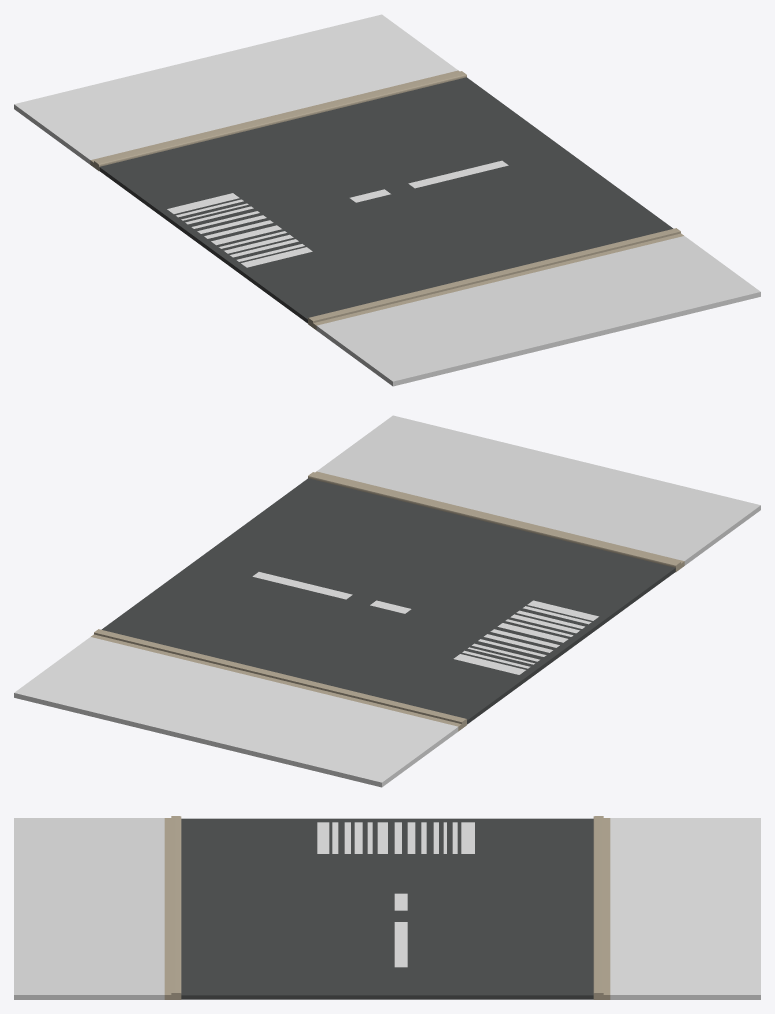
The model's file is SIDEWALK_PLUS_ROAD_COMBINED_RAW.fbx.
3 renders of one model, top to bottom at view 1: azimuth 30°, elevation 25°; view 2: azimuth 150°, elevation 25°; view 3: azimuth 270°, elevation 25°, orthographic.
Parts seen in each view (by area): view 1: sidwalk_and_road_combined; view 2: sidwalk_and_road_combined; view 3: sidwalk_and_road_combined.
Boxes of the visible parts, box(x1,y1,x2,y2) form: sidwalk_and_road_combined: box(14, 14, 760, 386); sidwalk_and_road_combined: box(14, 415, 760, 787); sidwalk_and_road_combined: box(14, 816, 760, 999).
Bounding box in the file's own units: 200 × 3.53 × 357.
